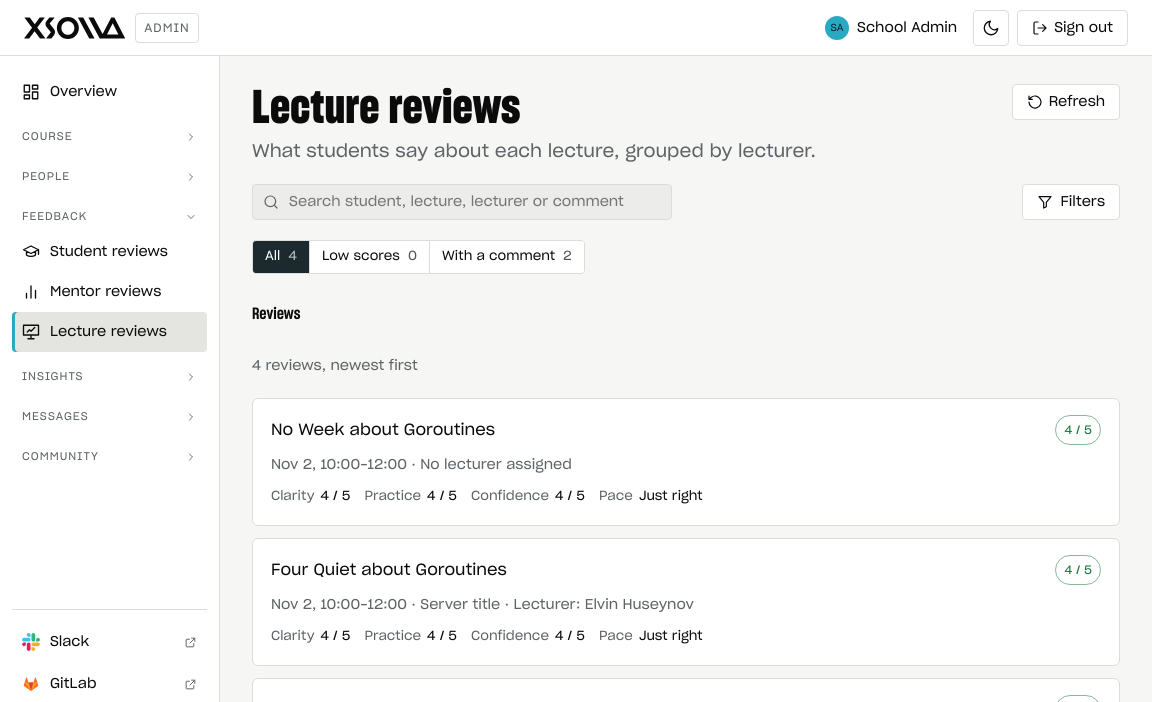
Test: Admin: lecture reviews › filters by week, named from the course, and finds the lectures with no week; a week’s comments are one more click
The image size is (1152, 702).
Click the button "Filters": [1071, 202] box x1=1022 y1=184 x2=1120 y2=220
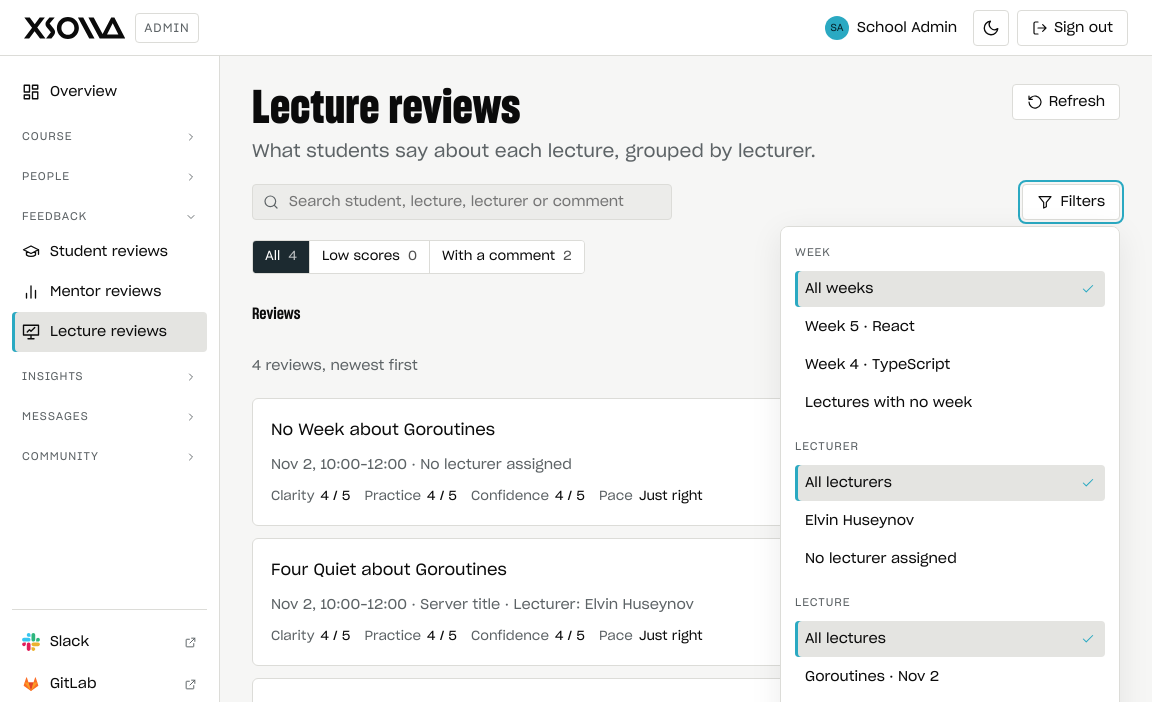
expect the text "All weeks" is shown: met, box x1=805 y1=282 x2=873 y2=296
expect the text "Lectures with no week" is shown: met, box x1=805 y1=396 x2=972 y2=410
Click the radio button labelled "Week 4 · TypeScript": [878, 365] box x1=805 y1=358 x2=950 y2=372
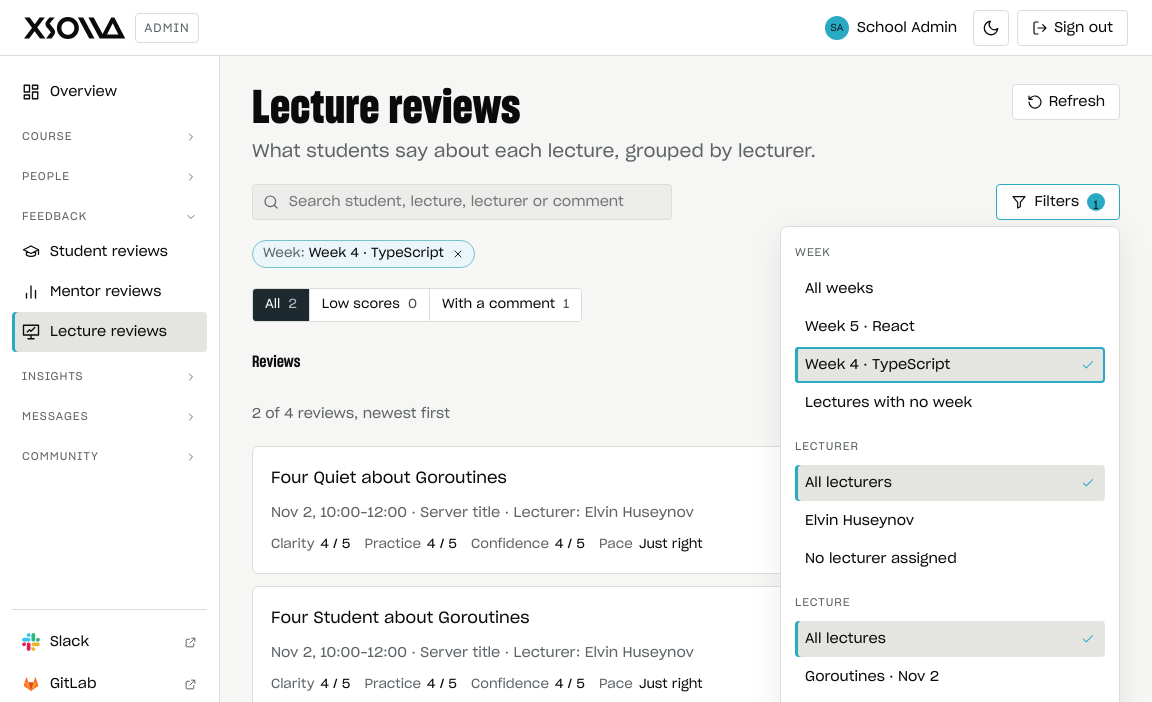
expect the list named "Active filters" shows "Week: Week 4": met, box x1=252 y1=240 x2=475 y2=268
Click the button "With a comment 1": [505, 305] box x1=430 y1=289 x2=581 y2=321
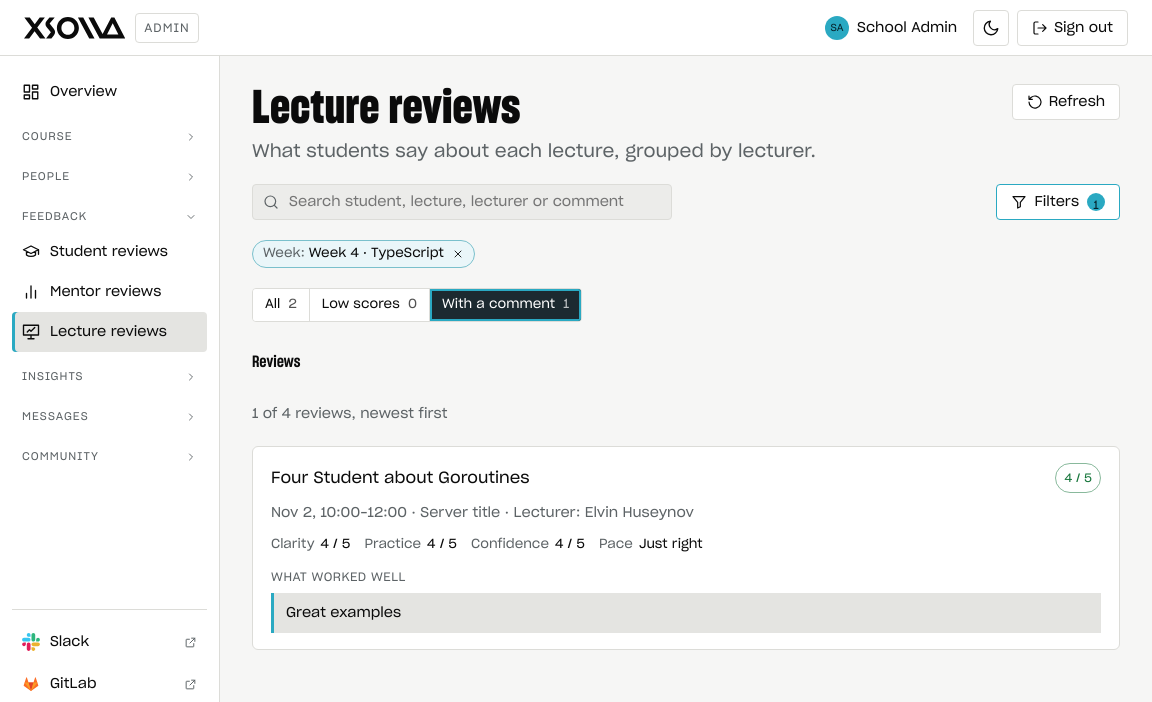
expect the list named "Reviews" shows "Great examples": met, box x1=286 y1=606 x2=401 y2=620
Click the button "All 2": [281, 305] box x1=253 y1=289 x2=310 y2=321
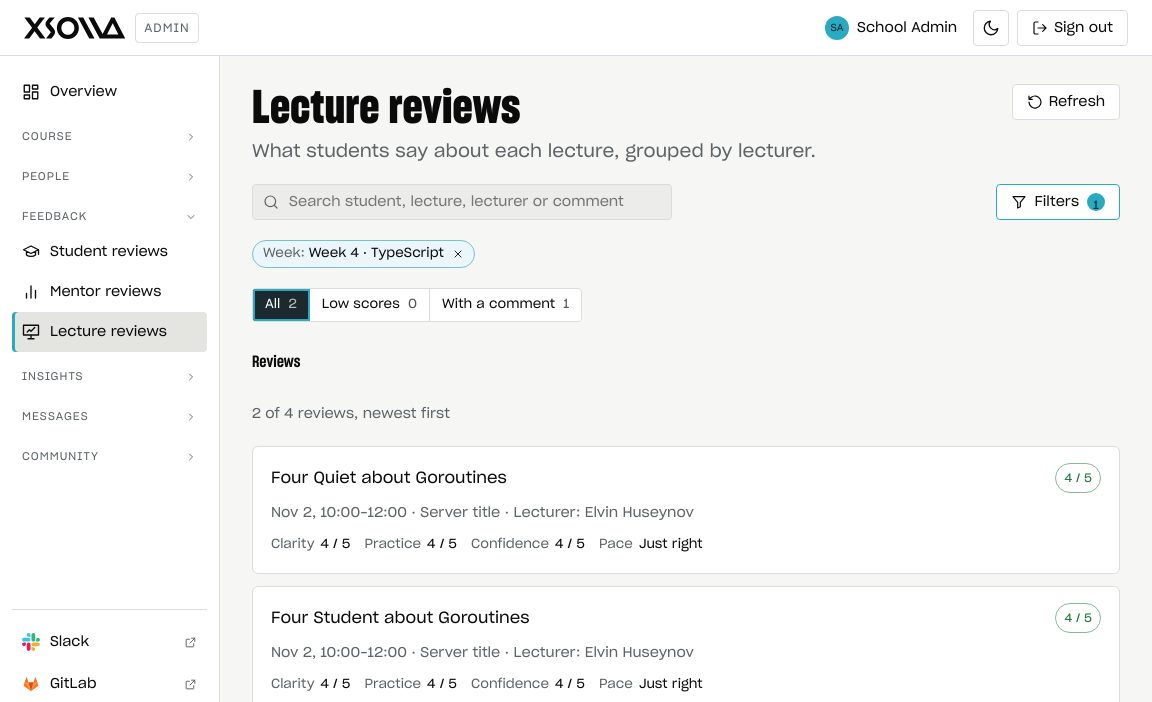
Click the button "Filters 1": [1058, 202] box x1=996 y1=184 x2=1120 y2=220
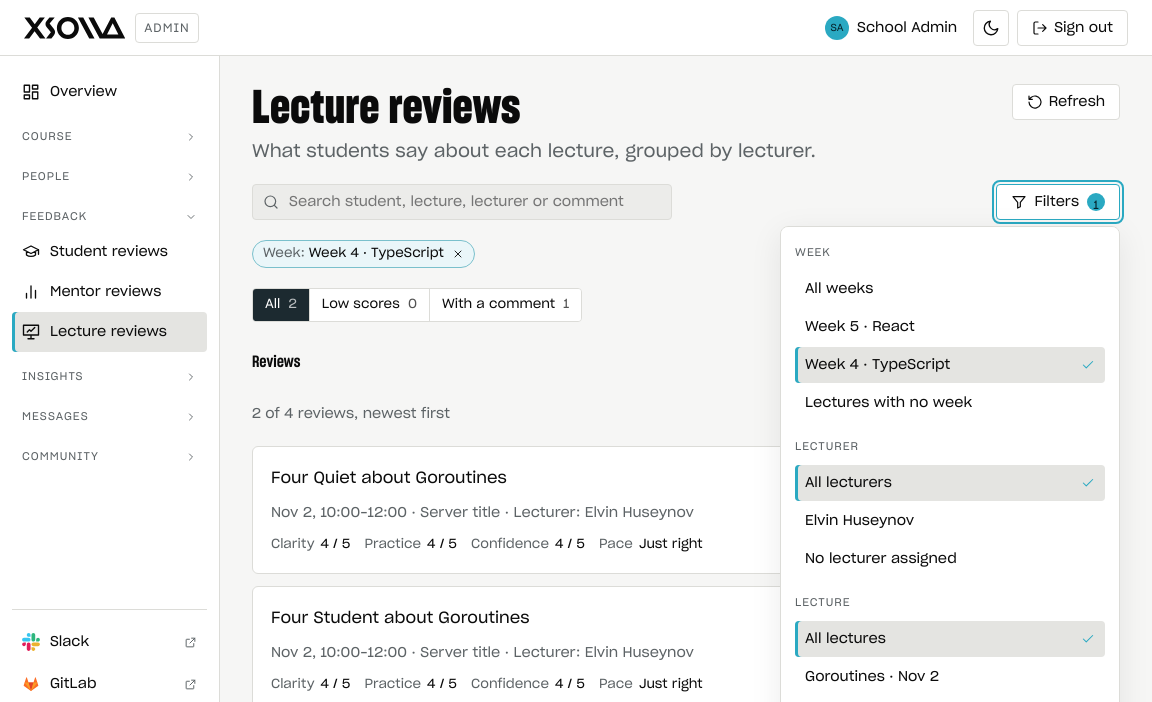
Click the radio button labelled "Lectures with no week": [889, 403] box x1=805 y1=396 x2=972 y2=410
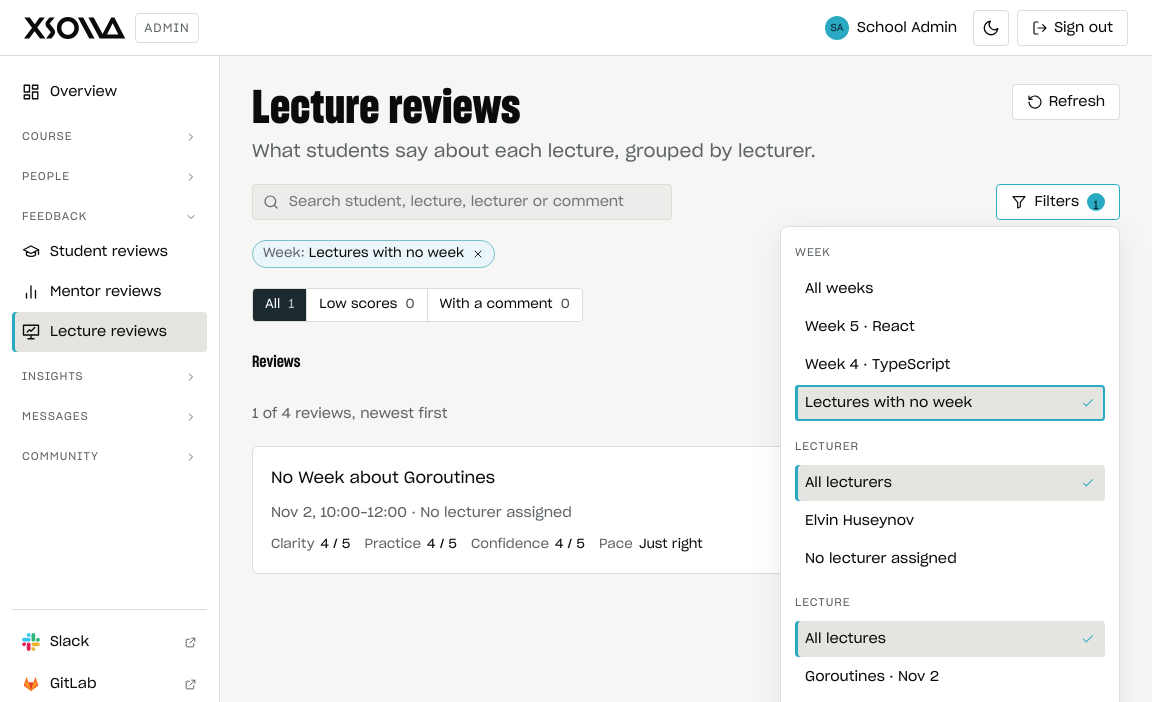
expect the list named "Reviews" shows "No Week": met, box x1=271 y1=470 x2=344 y2=486
